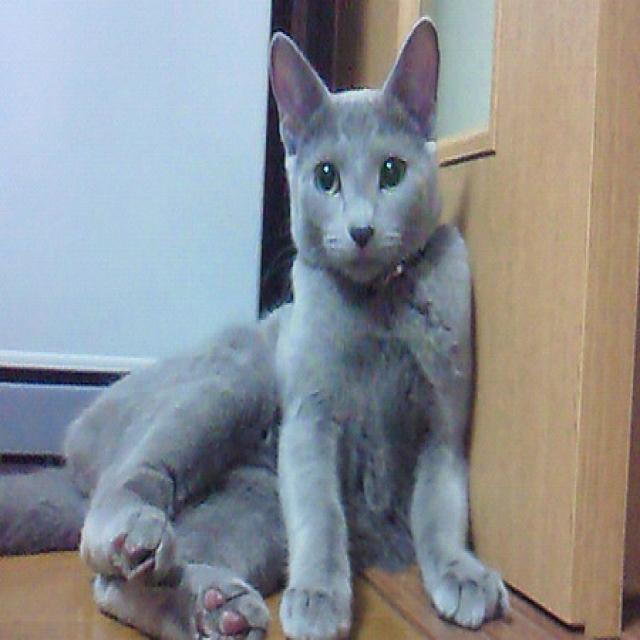Russian Blue: (0, 11, 511, 640)
